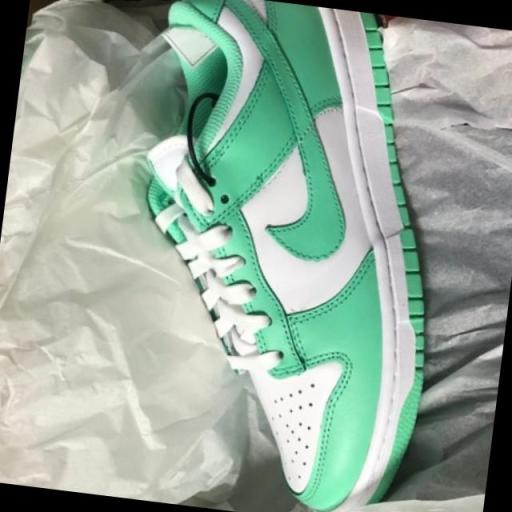Nike: (218, 5, 375, 268)
